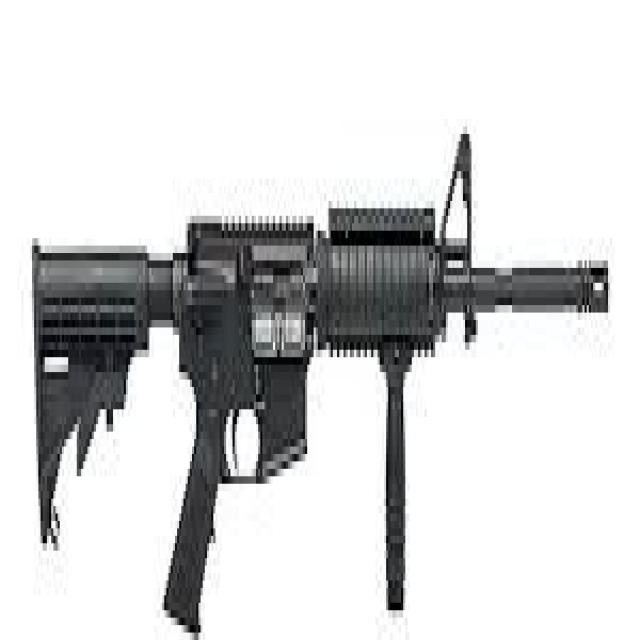rifle: (24, 109, 640, 640)
